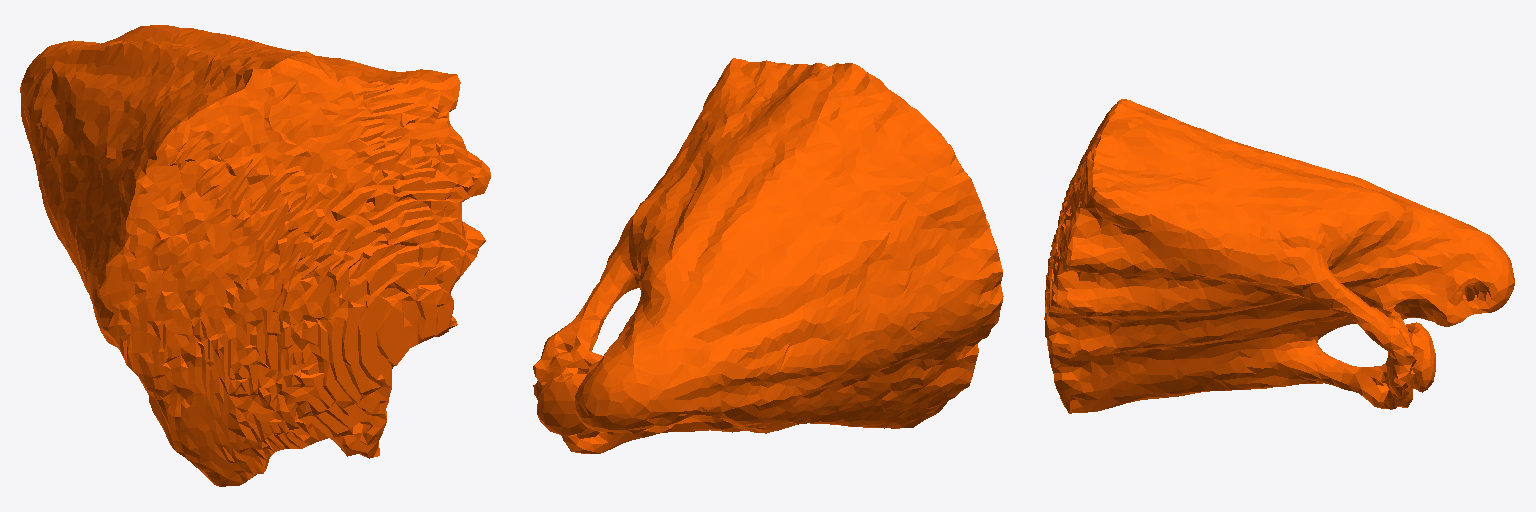
The robot description file, URDF, robot "a_ghost_eating_a_hamburger_1step":
<?xml version="1.0" ?>
<robot name="a_ghost_eating_a_hamburger_1step">
   <material name="obj_color">
      <color rgba="1.0 0.423529411765 0.0392156862745 1.0"/>
   </material>
   <link name="top">
      <inertial>
         <origin rpy="0.0001371353398572255 0.0002341177574757652 0.0002591477720744285" xyz="0.001357426320652931 -0.01771711994763403 -0.0004624937488399571"/>
         <mass value="0.2589903846134627"/>
         <inertia ixx="0.00025227167397428" ixy="-7.689437212739464e-06" ixz="-1.075178553533342e-05" iyy="0.0001376827402463645" iyz="2.579208916121478e-06" izz="0.0002404464551867748"/>
      </inertial>
      <visual>
         <origin rpy="0 0 0" xyz="0 0 0"/>
         <geometry>
            <mesh filename="top_watertight_tiny.stl" scale="1 1 1"/>
         </geometry>
         <material name="obj_color"/>
      </visual>
      <collision>
         <origin rpy="0 0 0" xyz="0 0 0"/>
         <geometry>
            <mesh filename="top_watertight_tiny.obj" scale="1 1 1"/>
         </geometry>
      </collision>
   </link>
   <link name="bottom">
      <inertial>
         <origin rpy="1.633333333199431e-08 1.633333333199431e-08 1.633333333362855e-08" xyz="0.3464080000000008 0.3464080000000008 0.3464080000000008"/>
         <mass value="0.0009800000000000017"/>
         <inertia ixx="1.633333333253906e-08" ixy="5.447480642029219e-19" ixz="5.447480642029219e-19" iyy="1.633333333253906e-08" iyz="5.447480642029219e-19" izz="1.633333333253906e-08"/>
      </inertial>
      <visual>
         <origin rpy="0 0 0" xyz="0 0 0"/>
         <geometry>
            <mesh filename="bottom_watertight_tiny.stl" scale="1 1 1"/>
         </geometry>
         <material name="obj_color"/>
      </visual>
   </link>
   <link name="world"/>
   <joint name="world_to_base" type="fixed">
      <origin xyz="0 0 0"/>
      <axis xyz="0 0 0"/>
      <parent link="world"/>
      <child link="bottom"/>
   </joint>
   <joint name="rotation" type="revolute">
      <origin xyz="0 0 0"/>
      <axis xyz="0 0 -1"/>
      <parent link="bottom"/>
      <child link="top"/>
      <dynamics damping="1.0" friction="1.0"/>
      <limit effort="0.1" velocity="0.1" lower="0" upper="0.001"/>
   </joint>
</robot>

--- What the picture shows (computed from the rendered views, not written in the file) ---
The picture shows the robot from 3 angles, left to right: view 1: azimuth 30°, elevation 25°; view 2: azimuth 150°, elevation 25°; view 3: azimuth 270°, elevation 25°; orthographic projection.
Model a_ghost_eating_a_hamburger_1step with 3 links and 2 joints (1 revolute, 1 fixed), rooted at world, posed all joints at 0.
Visible links, largest first — view 1: top; view 2: top; view 3: top.
Link boxes in pixels (x1,y1,x2,y2): top: [20, 25, 490, 486]; top: [533, 58, 1003, 453]; top: [1044, 99, 1514, 413].
Size in the robot's own frame: 0.0817 by 0.1223 by 0.0855 metres.
1 mesh visuals loaded from 2 distinct referenced files (1 binary STL); not drawn: 1 (reference not matched to a file when rendering).